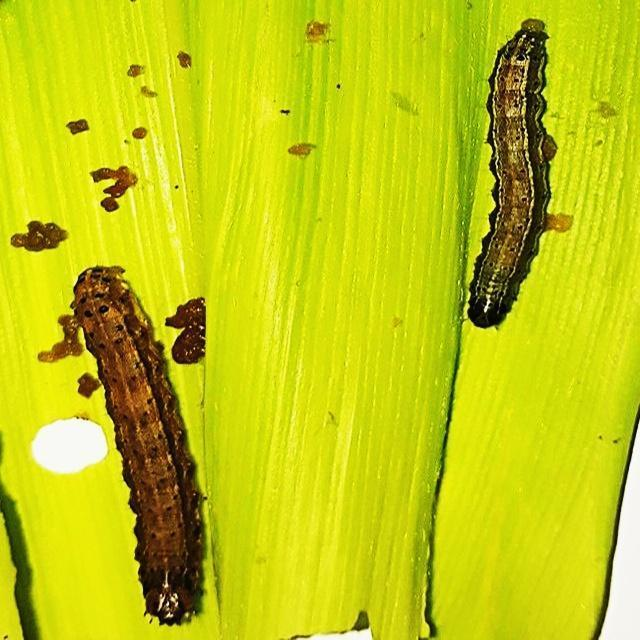gusano_cogollero: (70, 256, 205, 626), (465, 21, 550, 326)
